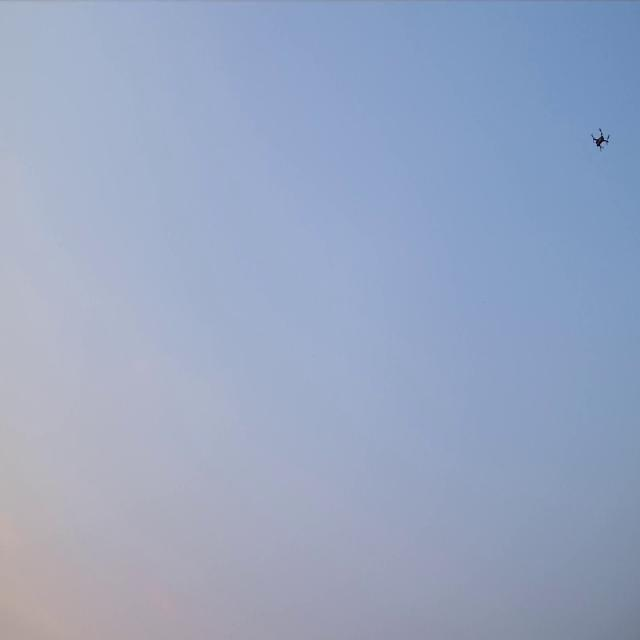UAV: (593, 130, 608, 150)
